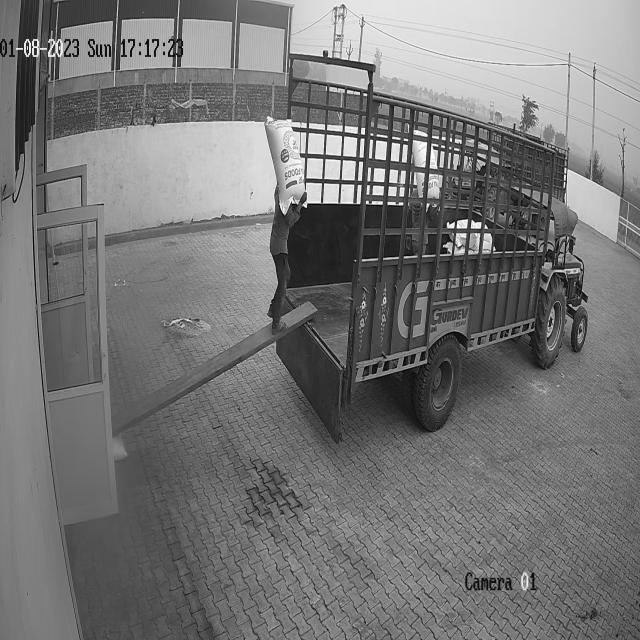sack: (264, 115, 304, 217)
